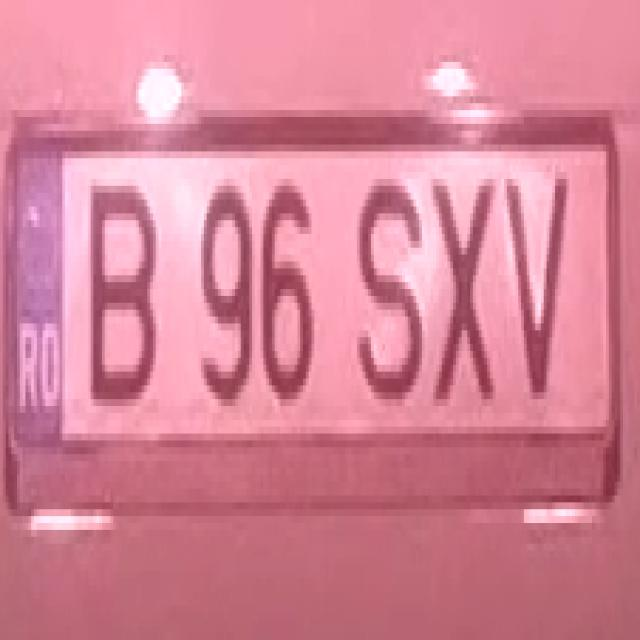EU: (10, 146, 616, 438)
Romanie: (8, 151, 62, 446)
